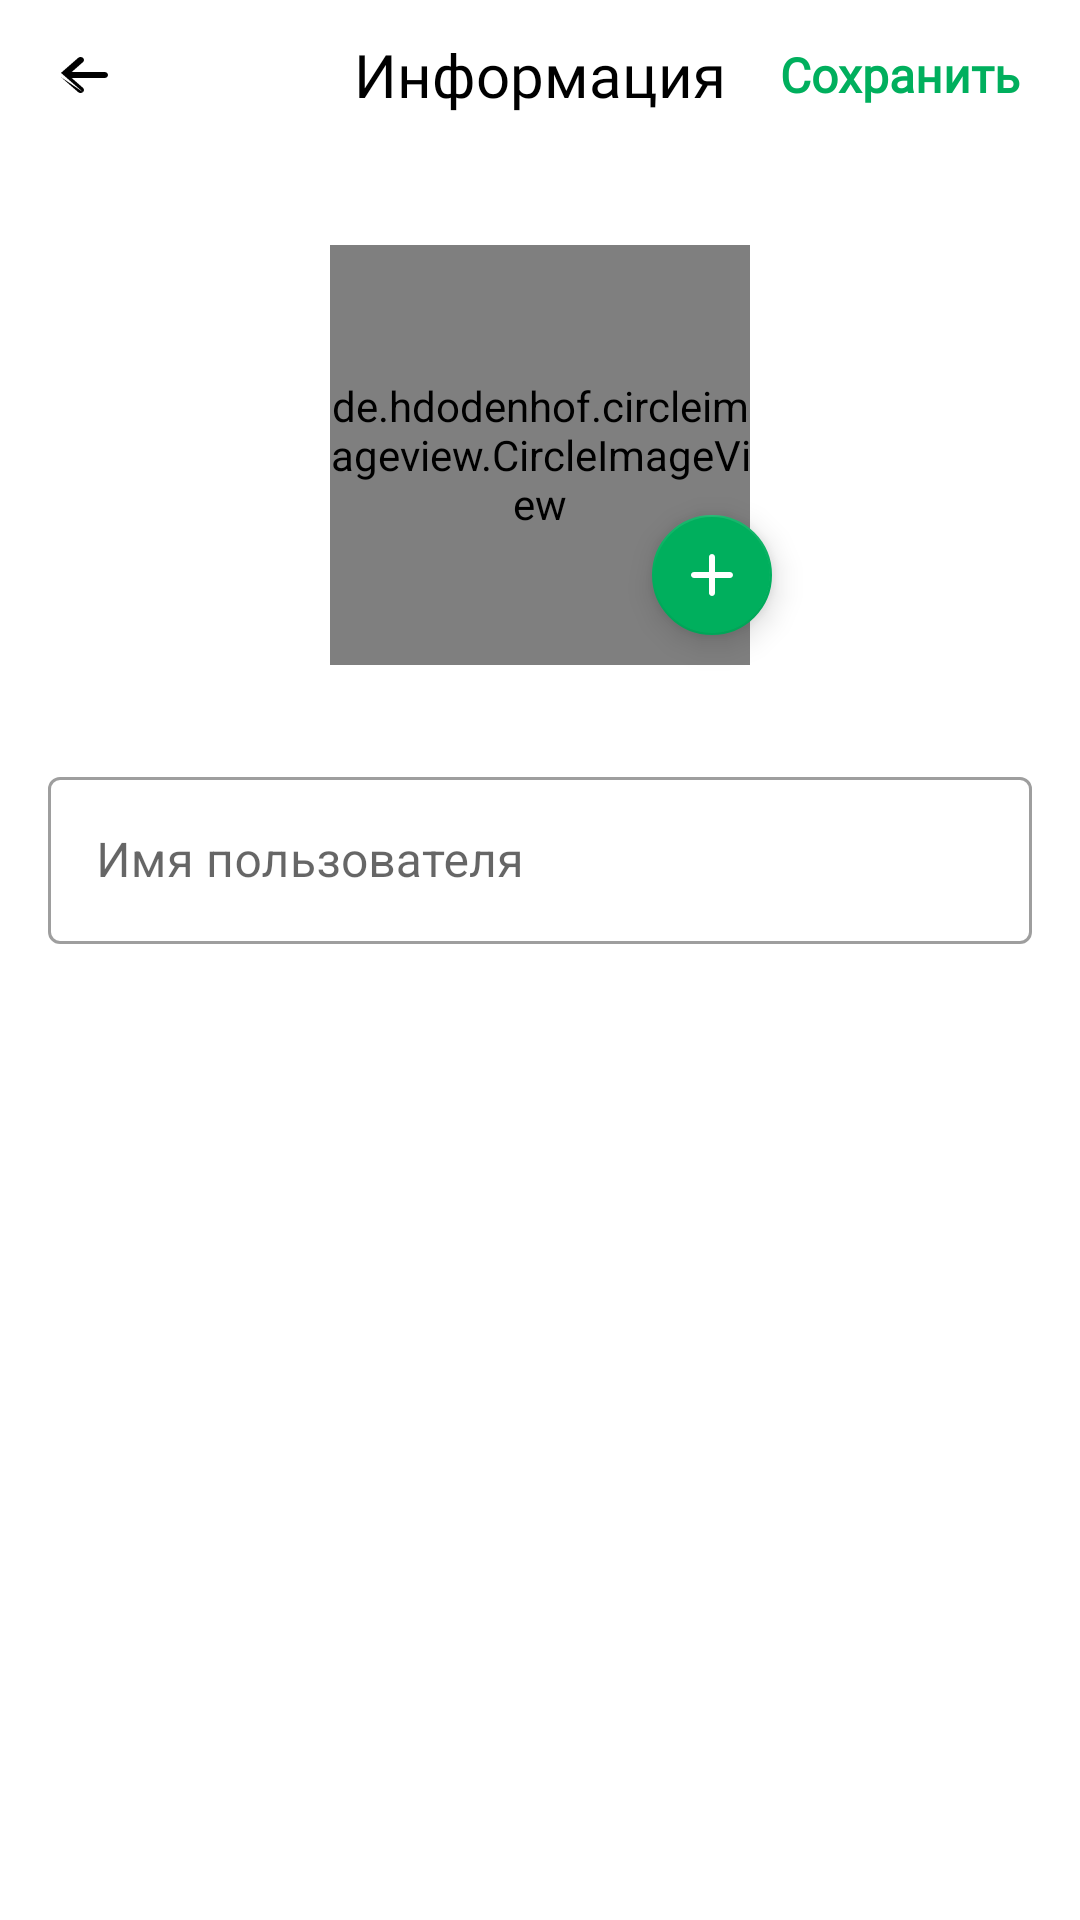

Icons on this 1080×1920 Android screen, each with its box as (x1=x1, y1=y1, x2=x2, y2=y2):
plus: (x1=652, y1=503, x2=784, y2=647)
Назад: (x1=61, y1=57, x2=108, y2=93)
